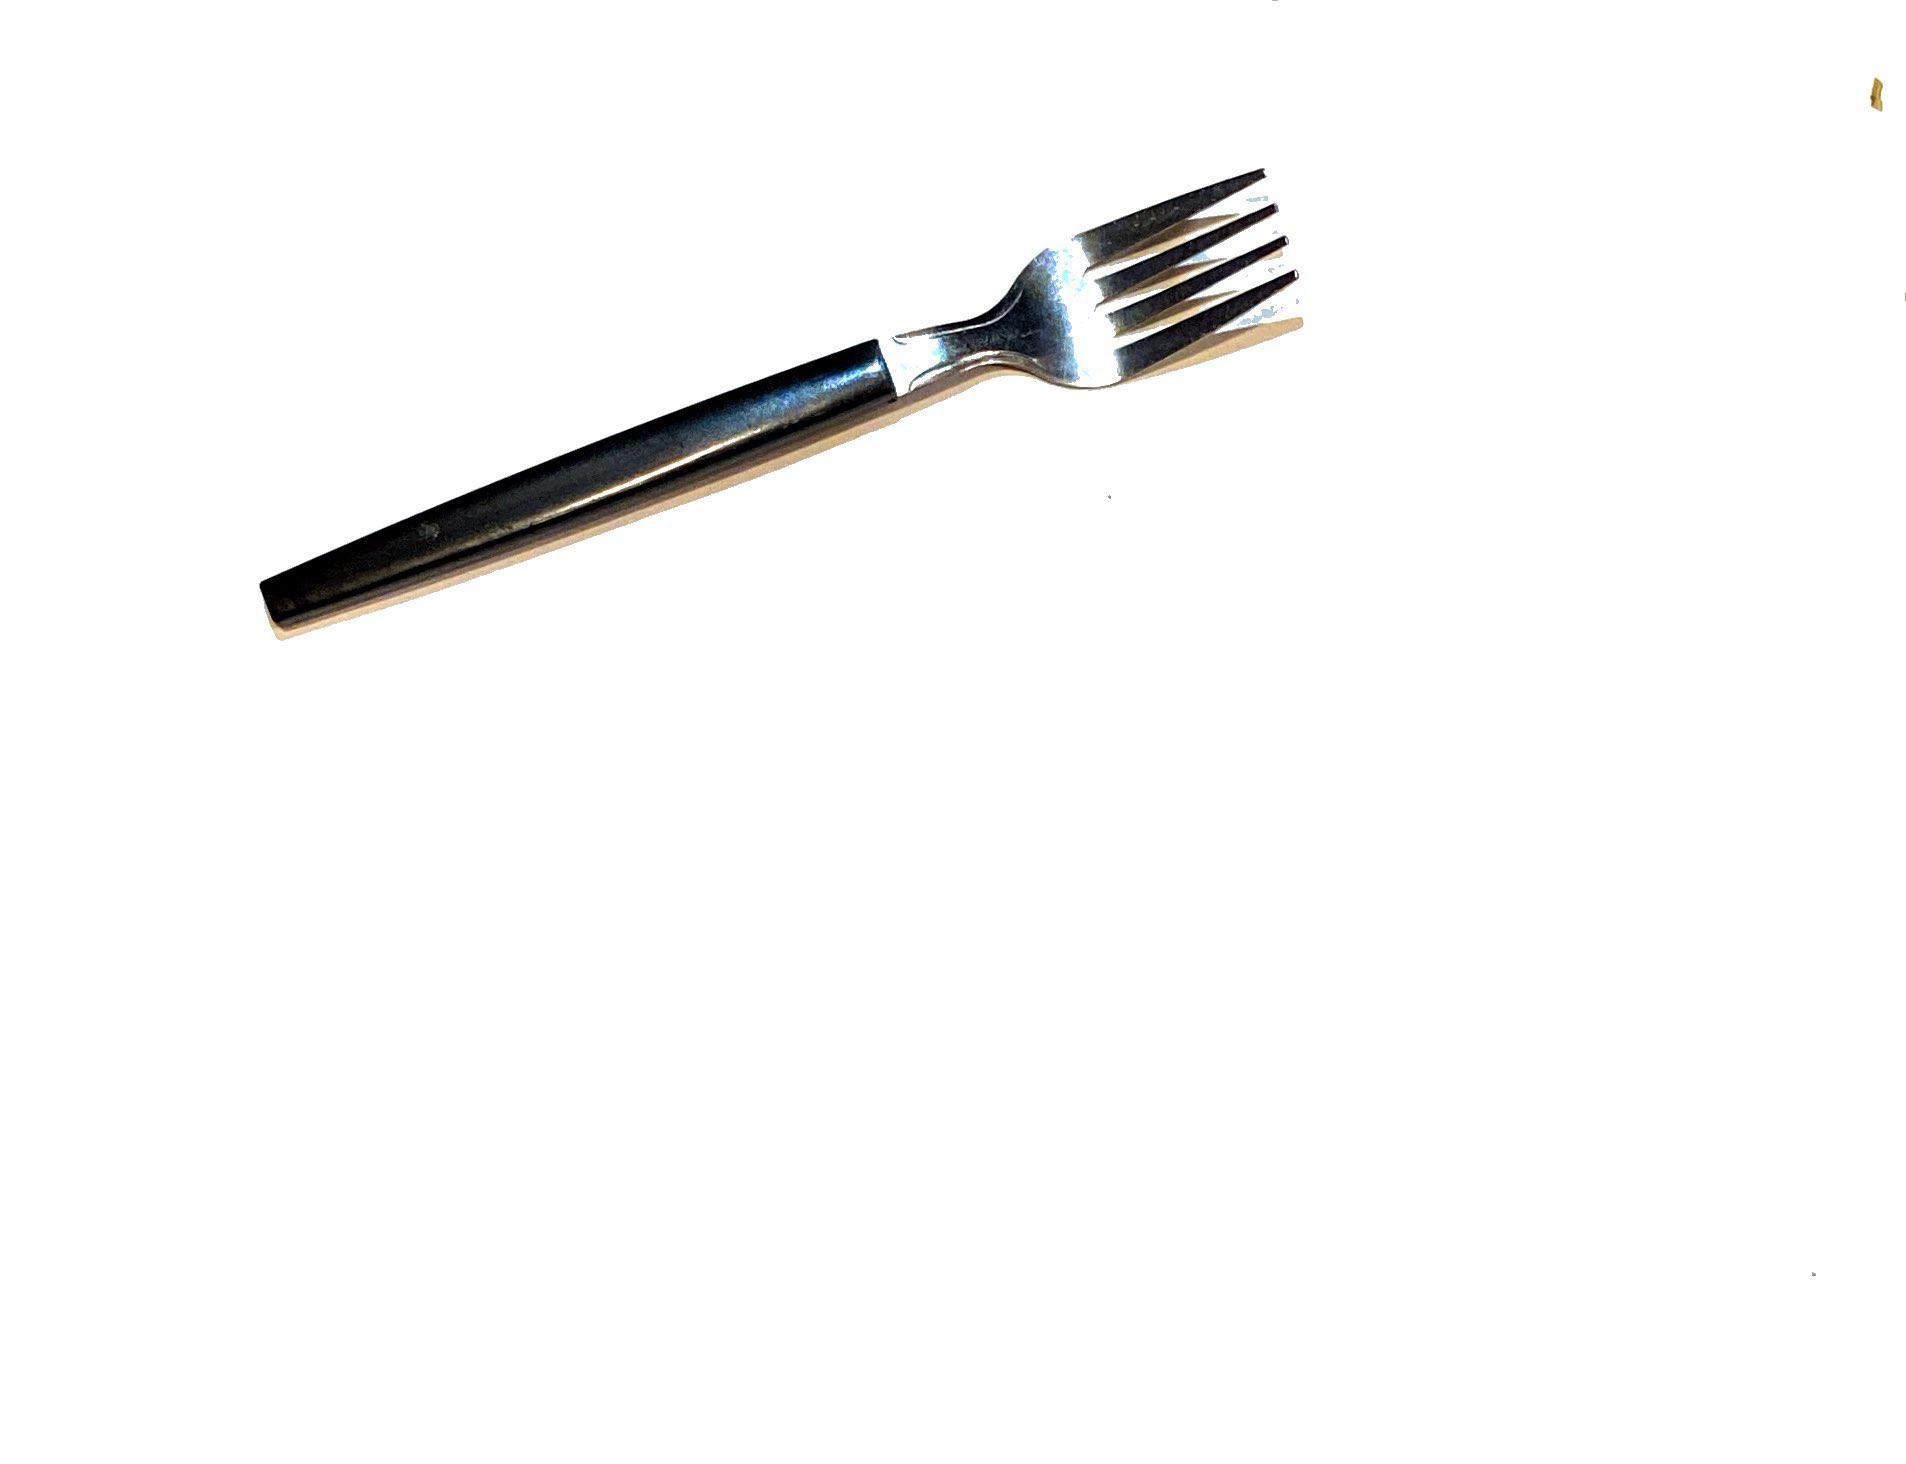Fork: (204, 121, 1354, 720)
